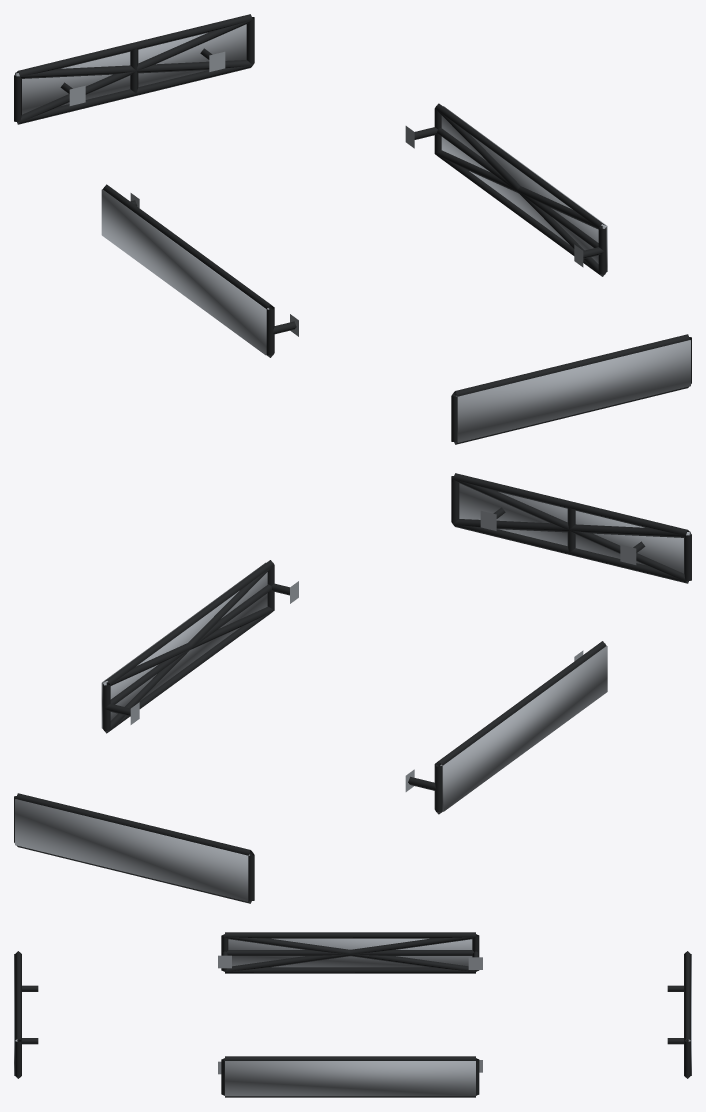
File: calderwood_cometa_protecao.glb
The picture shows the model from 3 angles, top to bottom: view 1: azimuth 30°, elevation 25°; view 2: azimuth 150°, elevation 25°; view 3: azimuth 270°, elevation 25°; orthographic projection. The views are drawn at different scales.
Parts seen in each view (by area): view 1: Protection_front_Level3_Details, Protection_left_Level3_Details, Protection_rear_Level3_Details, Protection_rear_Level1_Details, Protection_right_Level1_Details, Protection_rear_Level2_Details, Protection_right_Level2_Details, Protection_right_Level3_Details, Protection_front_Level1_Details, Protection_left_Level1_Details; view 2: Protection_rear_Level3_Details, Protection_left_Level3_Details, Protection_front_Level3_Details, Protection_front_Level1_Details, Protection_right_Level1_Details, Protection_front_Level2_Details, Protection_right_Level2_Details, Protection_right_Level3_Details, Protection_rear_Level1_Details, Protection_left_Level1_Details; view 3: Protection_right_Level3_Details, Protection_left_Level2_Details, Protection_left_Level1_Details, Protection_left_Level3_Details, Protection_right_Level1_Details, Protection_rear_Level1_Details, Protection_front_Level1_Details.
Part boxes in pixels (bbox=[...]): Protection_front_Level3_Details: bbox=[456, 340, 690, 442]; Protection_left_Level3_Details: bbox=[101, 189, 269, 355]; Protection_rear_Level3_Details: bbox=[15, 24, 246, 114]; Protection_rear_Level1_Details: bbox=[14, 14, 254, 124]; Protection_right_Level1_Details: bbox=[405, 103, 606, 276]; Protection_rear_Level2_Details: bbox=[16, 20, 252, 123]; Protection_right_Level2_Details: bbox=[435, 109, 605, 276]; Protection_right_Level3_Details: bbox=[441, 106, 607, 271]; Protection_front_Level1_Details: bbox=[451, 334, 691, 444]; Protection_left_Level1_Details: bbox=[103, 184, 298, 357]; Protection_rear_Level3_Details: bbox=[15, 799, 249, 901]; Protection_left_Level3_Details: bbox=[440, 646, 607, 811]; Protection_front_Level3_Details: bbox=[459, 483, 690, 573]; Protection_front_Level1_Details: bbox=[451, 473, 691, 583]; Protection_right_Level1_Details: bbox=[102, 560, 298, 733]; Protection_front_Level2_Details: bbox=[453, 479, 689, 582]; Protection_right_Level2_Details: bbox=[103, 565, 273, 732]; Protection_right_Level3_Details: bbox=[101, 562, 267, 728]; Protection_rear_Level1_Details: bbox=[14, 793, 254, 903]; Protection_left_Level1_Details: bbox=[405, 641, 606, 814]; Protection_right_Level3_Details: bbox=[225, 1061, 475, 1096]; Protection_left_Level2_Details: bbox=[224, 935, 476, 971]; Protection_left_Level1_Details: bbox=[218, 932, 482, 973]; Protection_left_Level3_Details: bbox=[228, 938, 472, 967]; Protection_right_Level1_Details: bbox=[218, 1056, 482, 1097]; Protection_rear_Level1_Details: bbox=[667, 951, 690, 1078]; Protection_front_Level1_Details: bbox=[15, 951, 38, 1078].
Size of the model in its own units: 2.35 by 0.354 by 5.27.
Materials: 1 (1 with a texture image).
